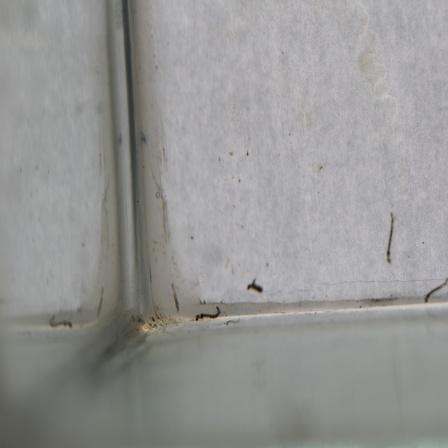Jentik-Nyamuk: (383, 210, 397, 267), (191, 304, 225, 324), (245, 274, 264, 294)
